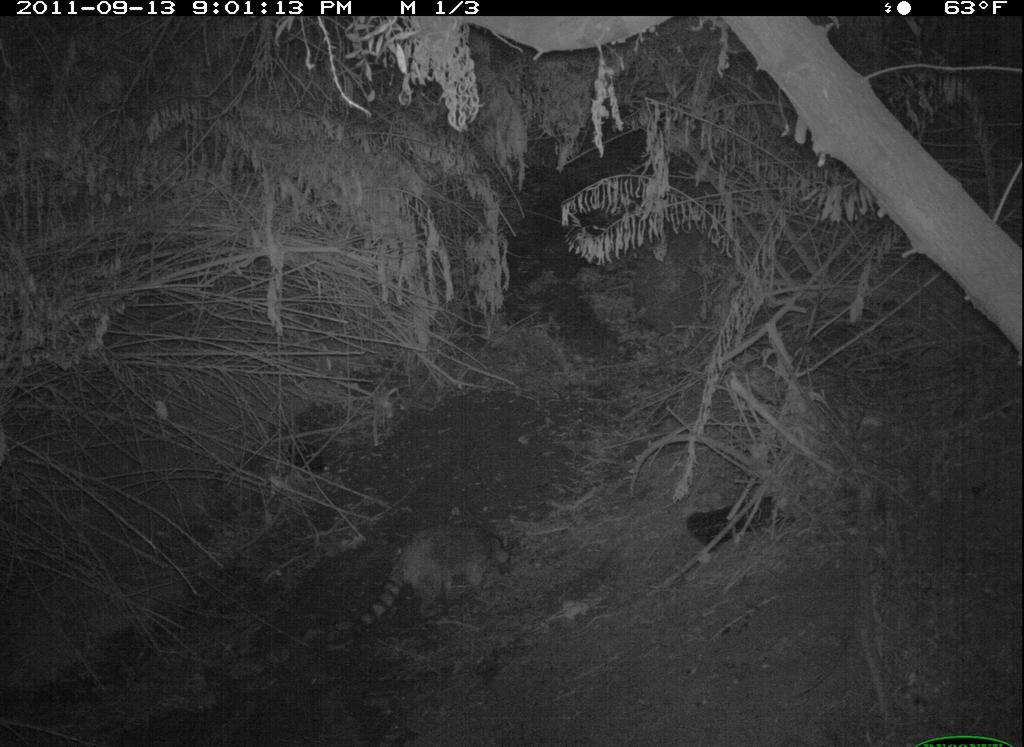raccoon: (350, 509, 524, 644)
